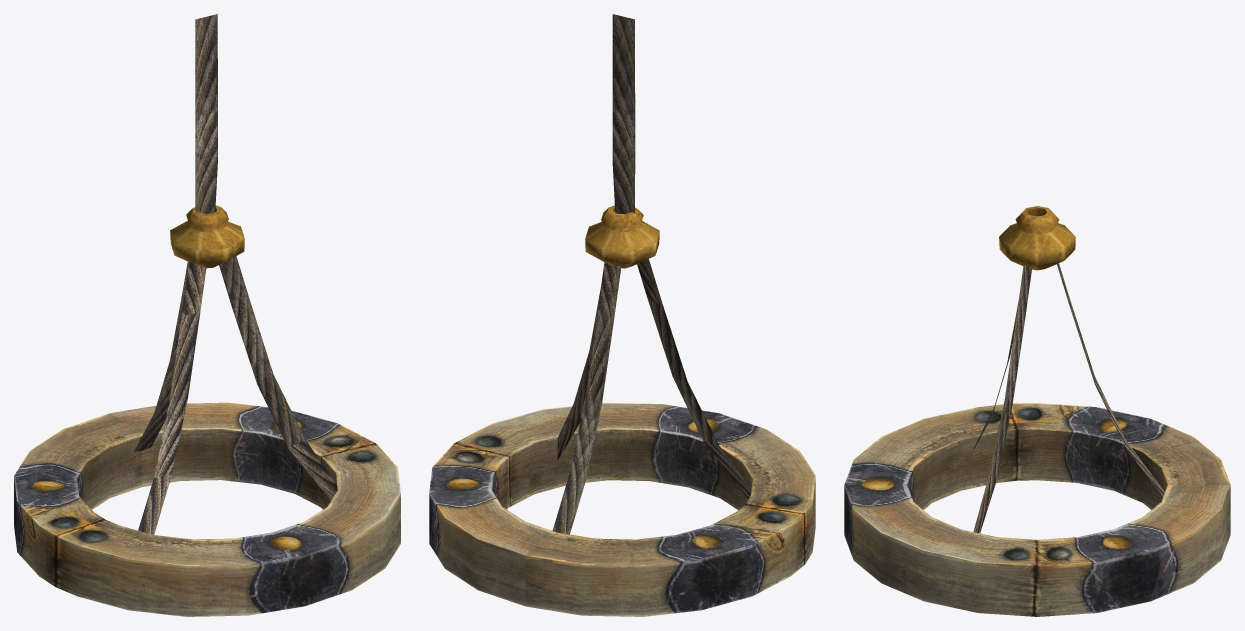
File: chandelier.obj
3 renders of one model, left to right at view 1: azimuth 30°, elevation 25°; view 2: azimuth 150°, elevation 25°; view 3: azimuth 270°, elevation 25°, orthographic.
Visible parts, largest first — view 1: chandelier; view 2: chandelier; view 3: chandelier.
Part boxes in pixels (left/top/right/bottom): chandelier: left=14, top=14, right=400, bottom=616; chandelier: left=429, top=14, right=815, bottom=616; chandelier: left=844, top=206, right=1230, bottom=616.
Size of the model in its own units: 226 by 333 by 226.
Materials: 1 (1 with a texture image).
